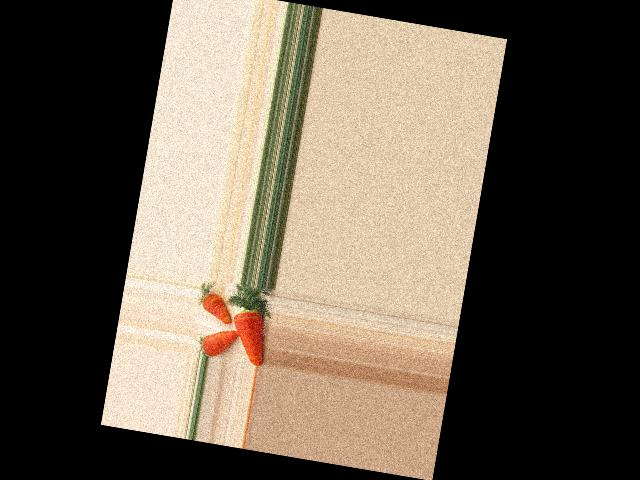carrot: (223, 303, 274, 367)
